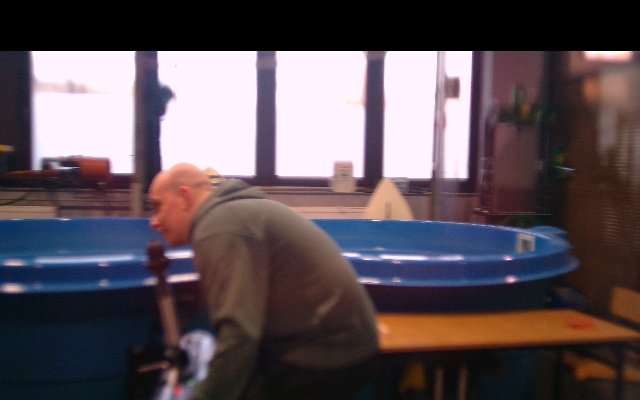black: (157, 290, 183, 356)
